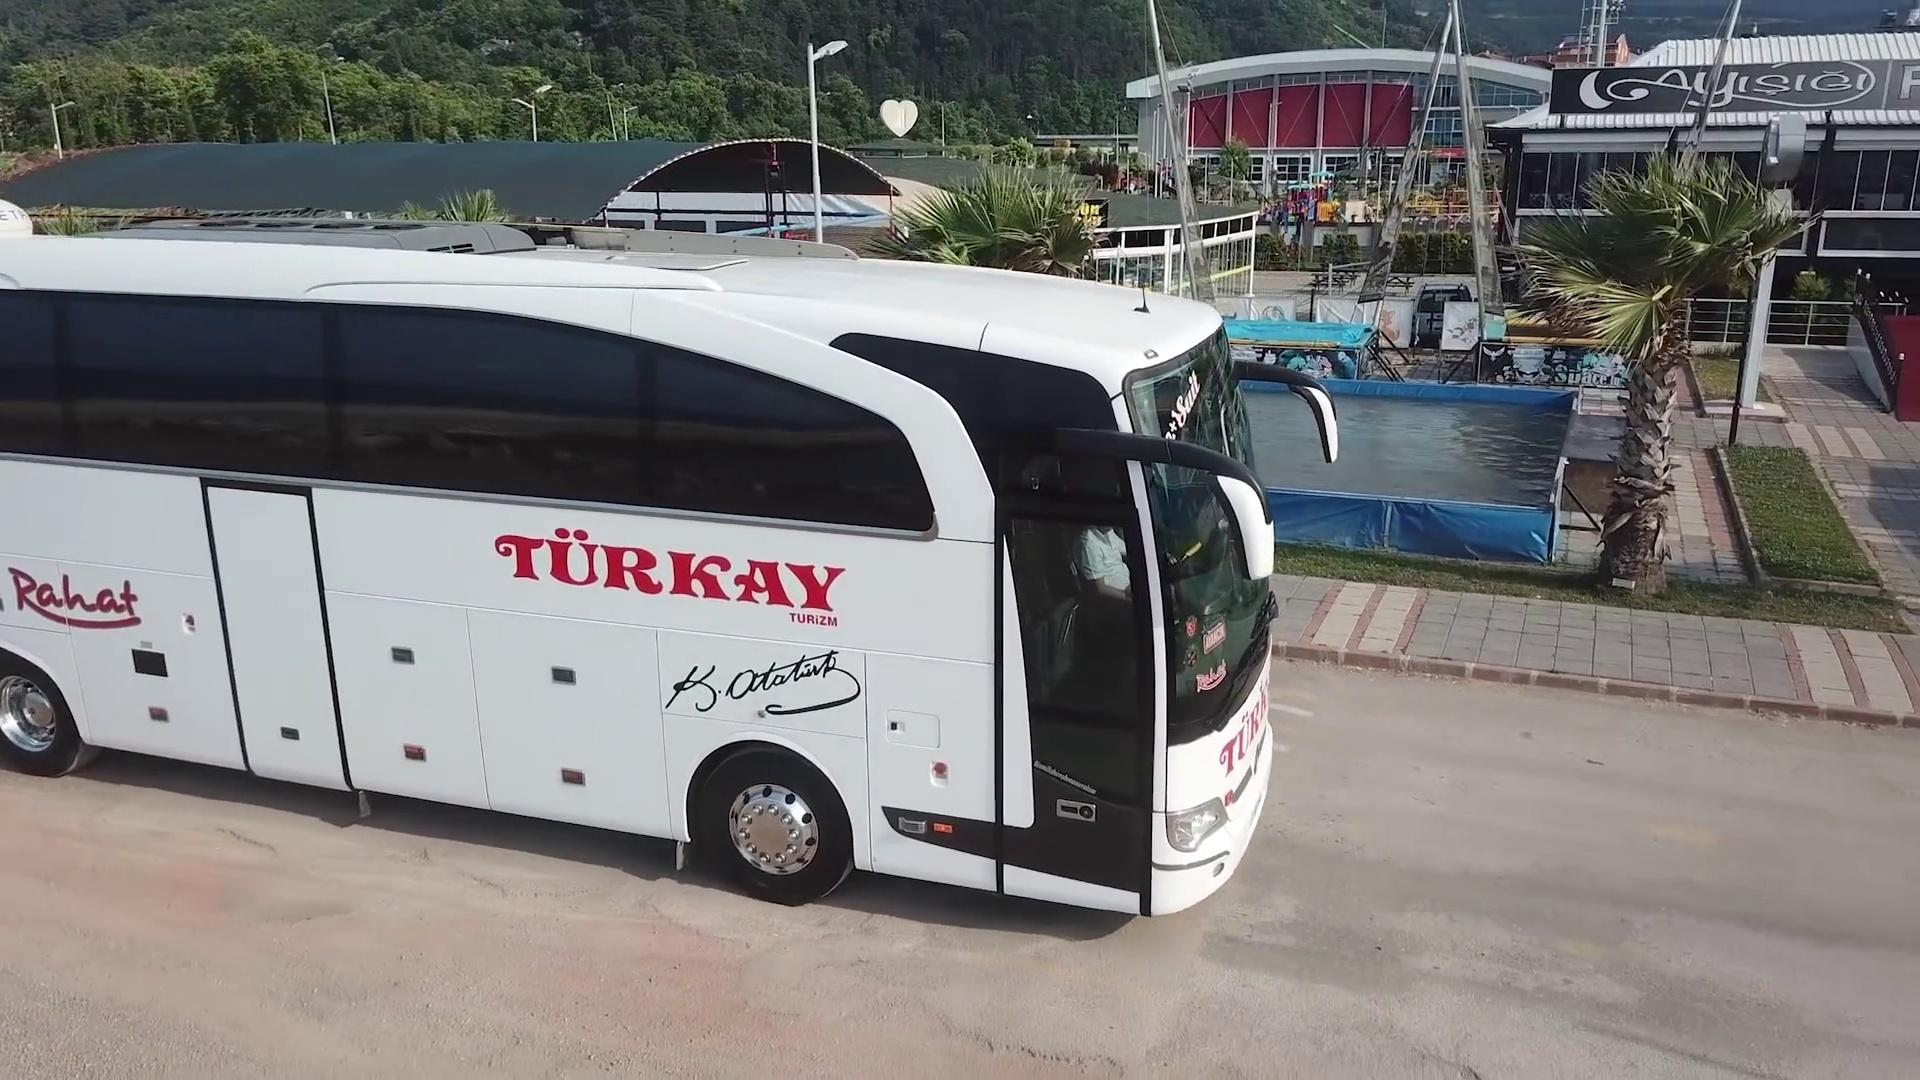Bus: (0, 207, 1337, 919)
